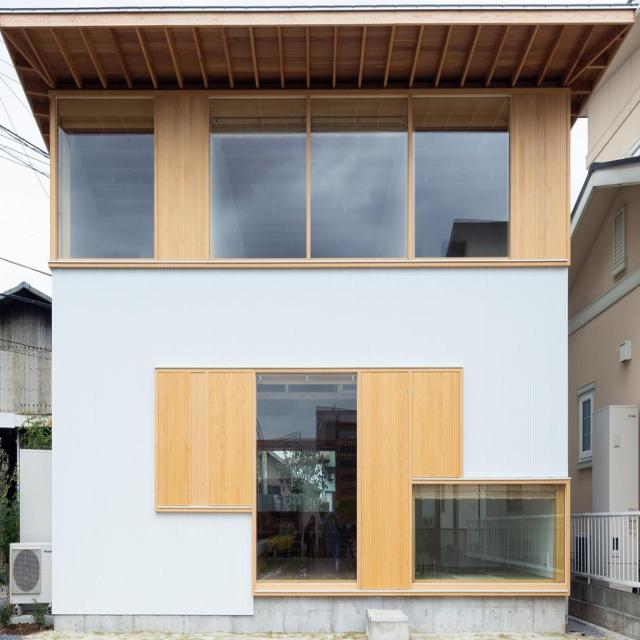wall: (0, 5, 635, 633)
windows: (213, 101, 513, 258), (254, 372, 356, 583), (56, 98, 156, 258), (412, 486, 567, 584)
